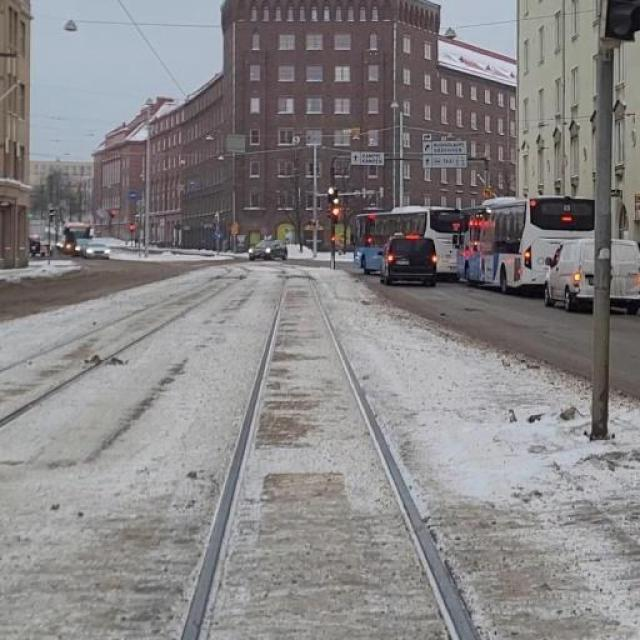vehicle: (467, 193, 580, 294), (344, 202, 471, 278), (547, 234, 640, 306), (384, 231, 449, 293), (250, 237, 295, 260)
